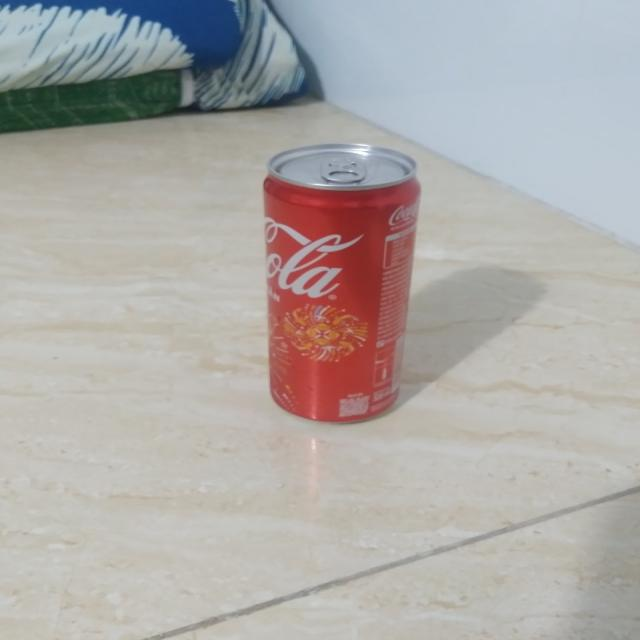cocacola: (239, 136, 445, 434)
